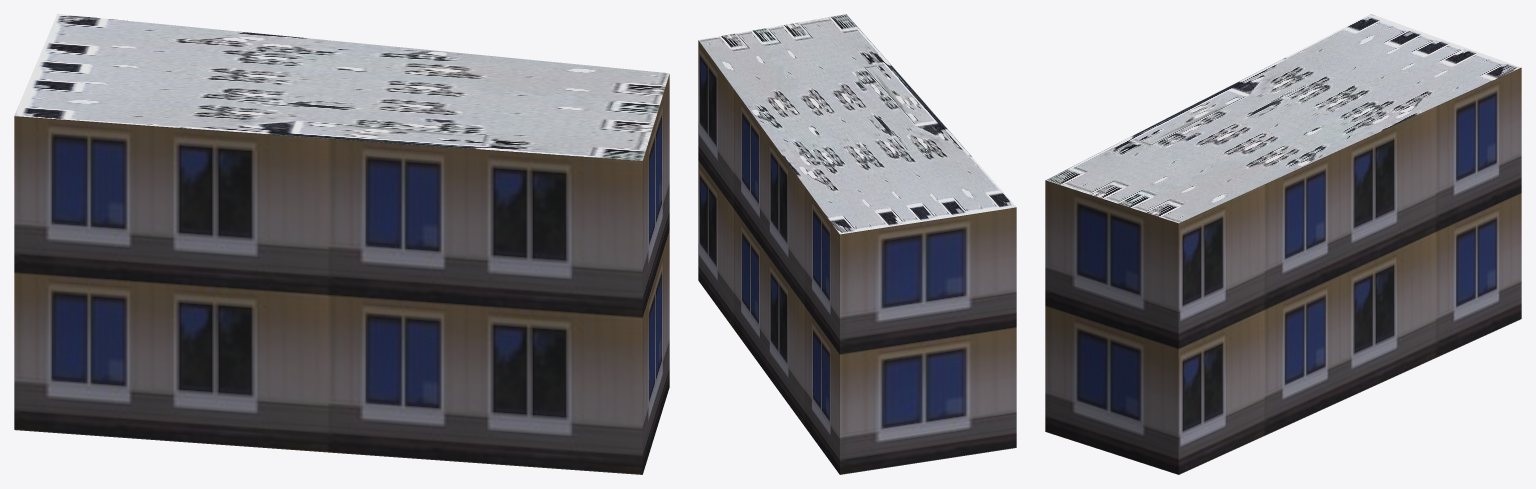
File: ResTex__4021.fbx
The picture shows the model from 3 angles, left to right: view 1: azimuth 30°, elevation 25°; view 2: azimuth 150°, elevation 25°; view 3: azimuth 270°, elevation 25°; orthographic projection. The views are drawn at different scales.
Parts seen in each view (by area): view 1: CityEngineMaterial_5_m, CityEngineMaterial_m; view 2: CityEngineMaterial_5_m, CityEngineMaterial_m; view 3: CityEngineMaterial_5_m, CityEngineMaterial_m.
Boxes of the visible parts, <box> form: CityEngineMaterial_5_m: <box>14,74,669,474</box>; CityEngineMaterial_m: <box>14,14,669,160</box>; CityEngineMaterial_5_m: <box>698,40,1016,474</box>; CityEngineMaterial_m: <box>698,14,1015,234</box>; CityEngineMaterial_5_m: <box>1045,67,1521,474</box>; CityEngineMaterial_m: <box>1046,14,1520,223</box>.
Size of the model in its own units: 10.71 by 6 by 10.29.
2 materials, 2 textured.
